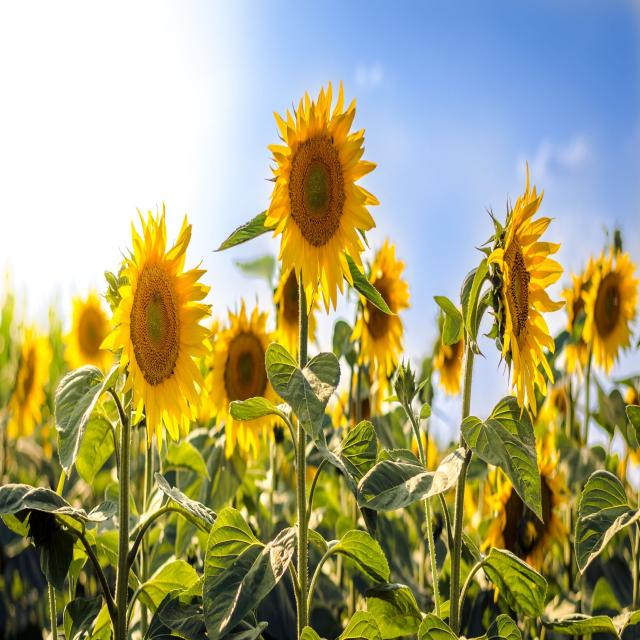sunflower: (94, 185, 219, 470), (255, 71, 383, 319), (482, 152, 560, 402), (196, 280, 282, 454), (575, 249, 640, 370), (358, 232, 408, 385), (6, 314, 55, 438), (60, 281, 118, 379)
